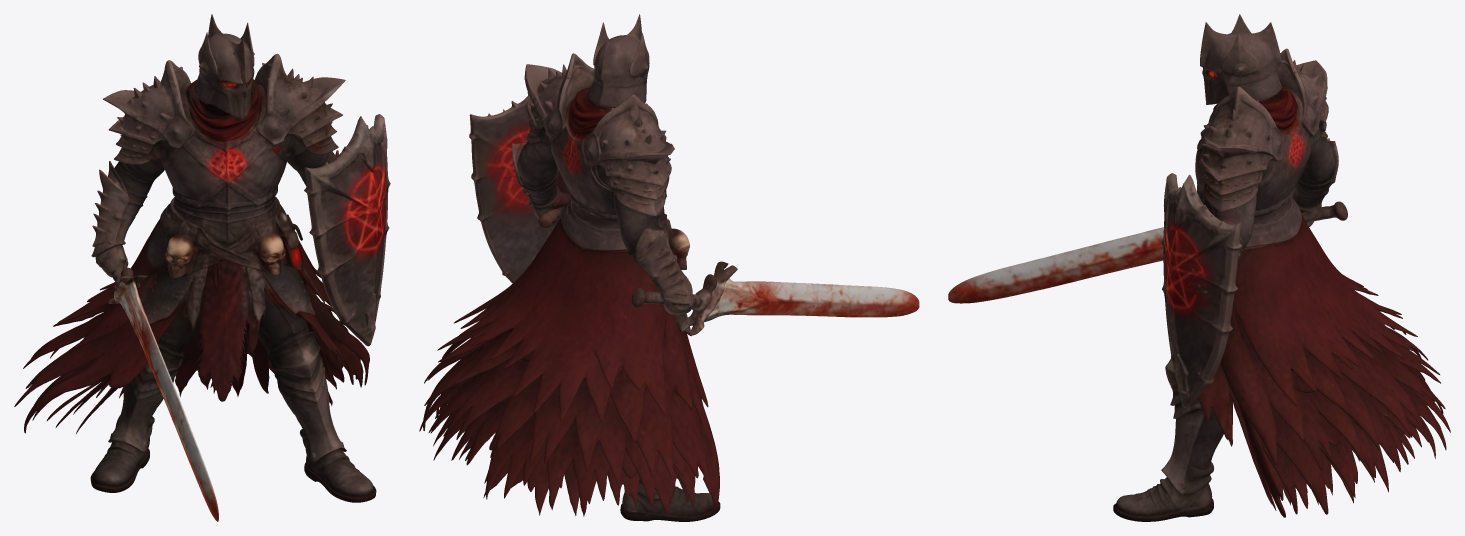
File: enemy_cultist_knight_01.glb
3 renders of one model, left to right at view 1: azimuth 30°, elevation 25°; view 2: azimuth 150°, elevation 25°; view 3: azimuth 270°, elevation 25°, orthographic.
Visible parts, largest first — view 1: material; view 2: material; view 3: material.
Part boxes in pixels (x1,y1,x2,y2): material: (14, 14, 390, 521); material: (419, 14, 919, 521); material: (948, 14, 1450, 521).
Size of the model in its own units: 0.6486 by 0.8833 by 0.8847.
1 material, 1 textured.
